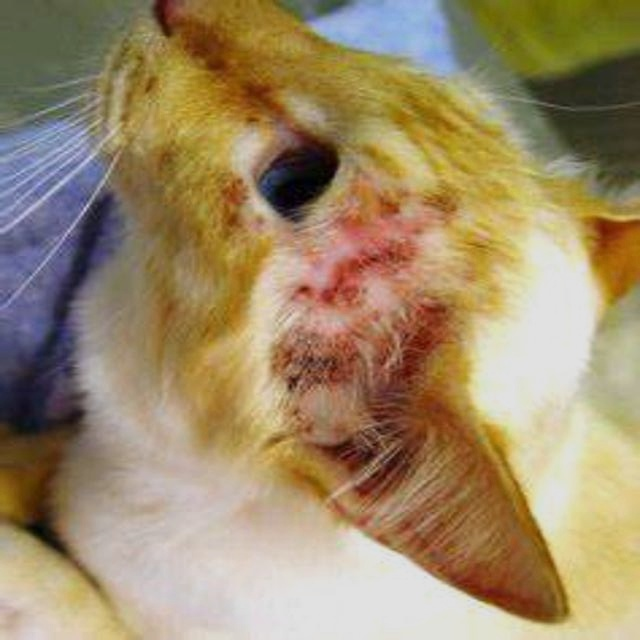ringworm: (275, 166, 462, 403)
